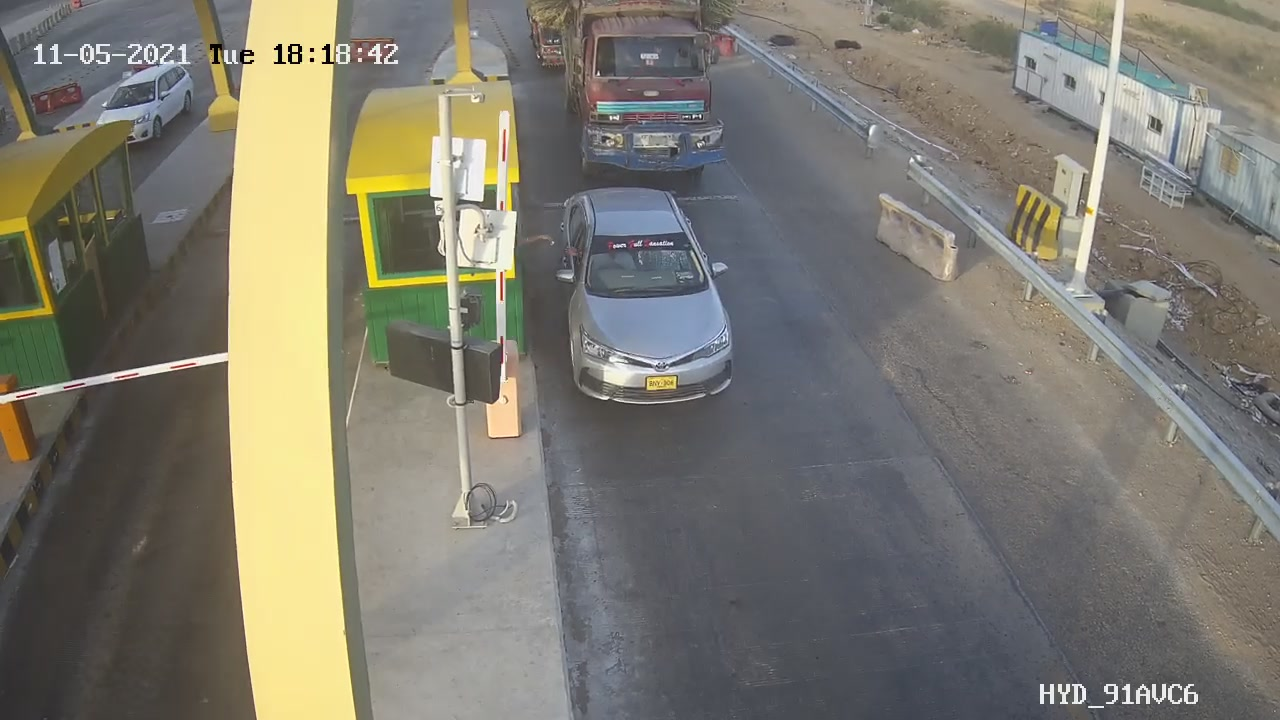F1: (548, 179, 748, 417)
